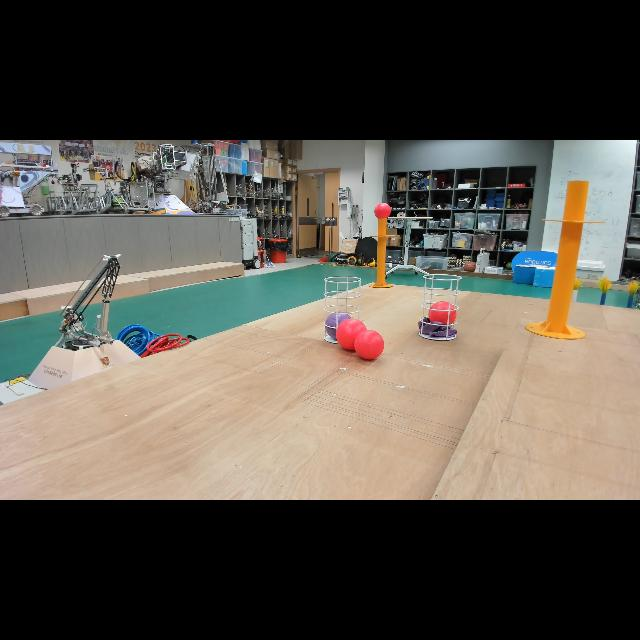P: (324, 311, 354, 341)
R: (335, 317, 369, 353), (352, 330, 386, 362), (426, 299, 458, 329), (372, 198, 392, 222)
S: (419, 274, 463, 340), (322, 276, 362, 344)
